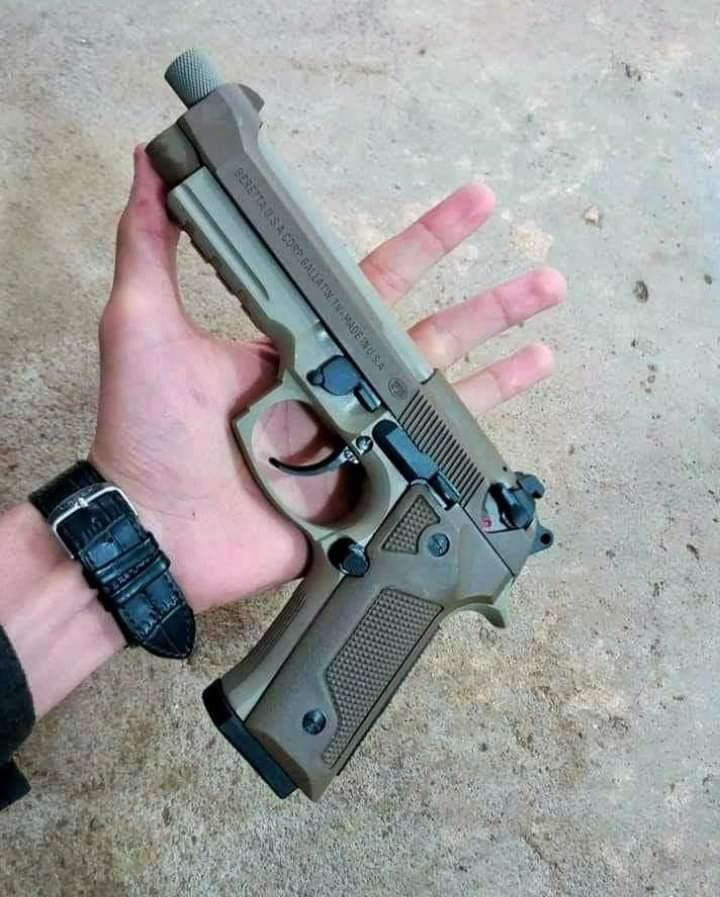weapon: (144, 49, 555, 801)
